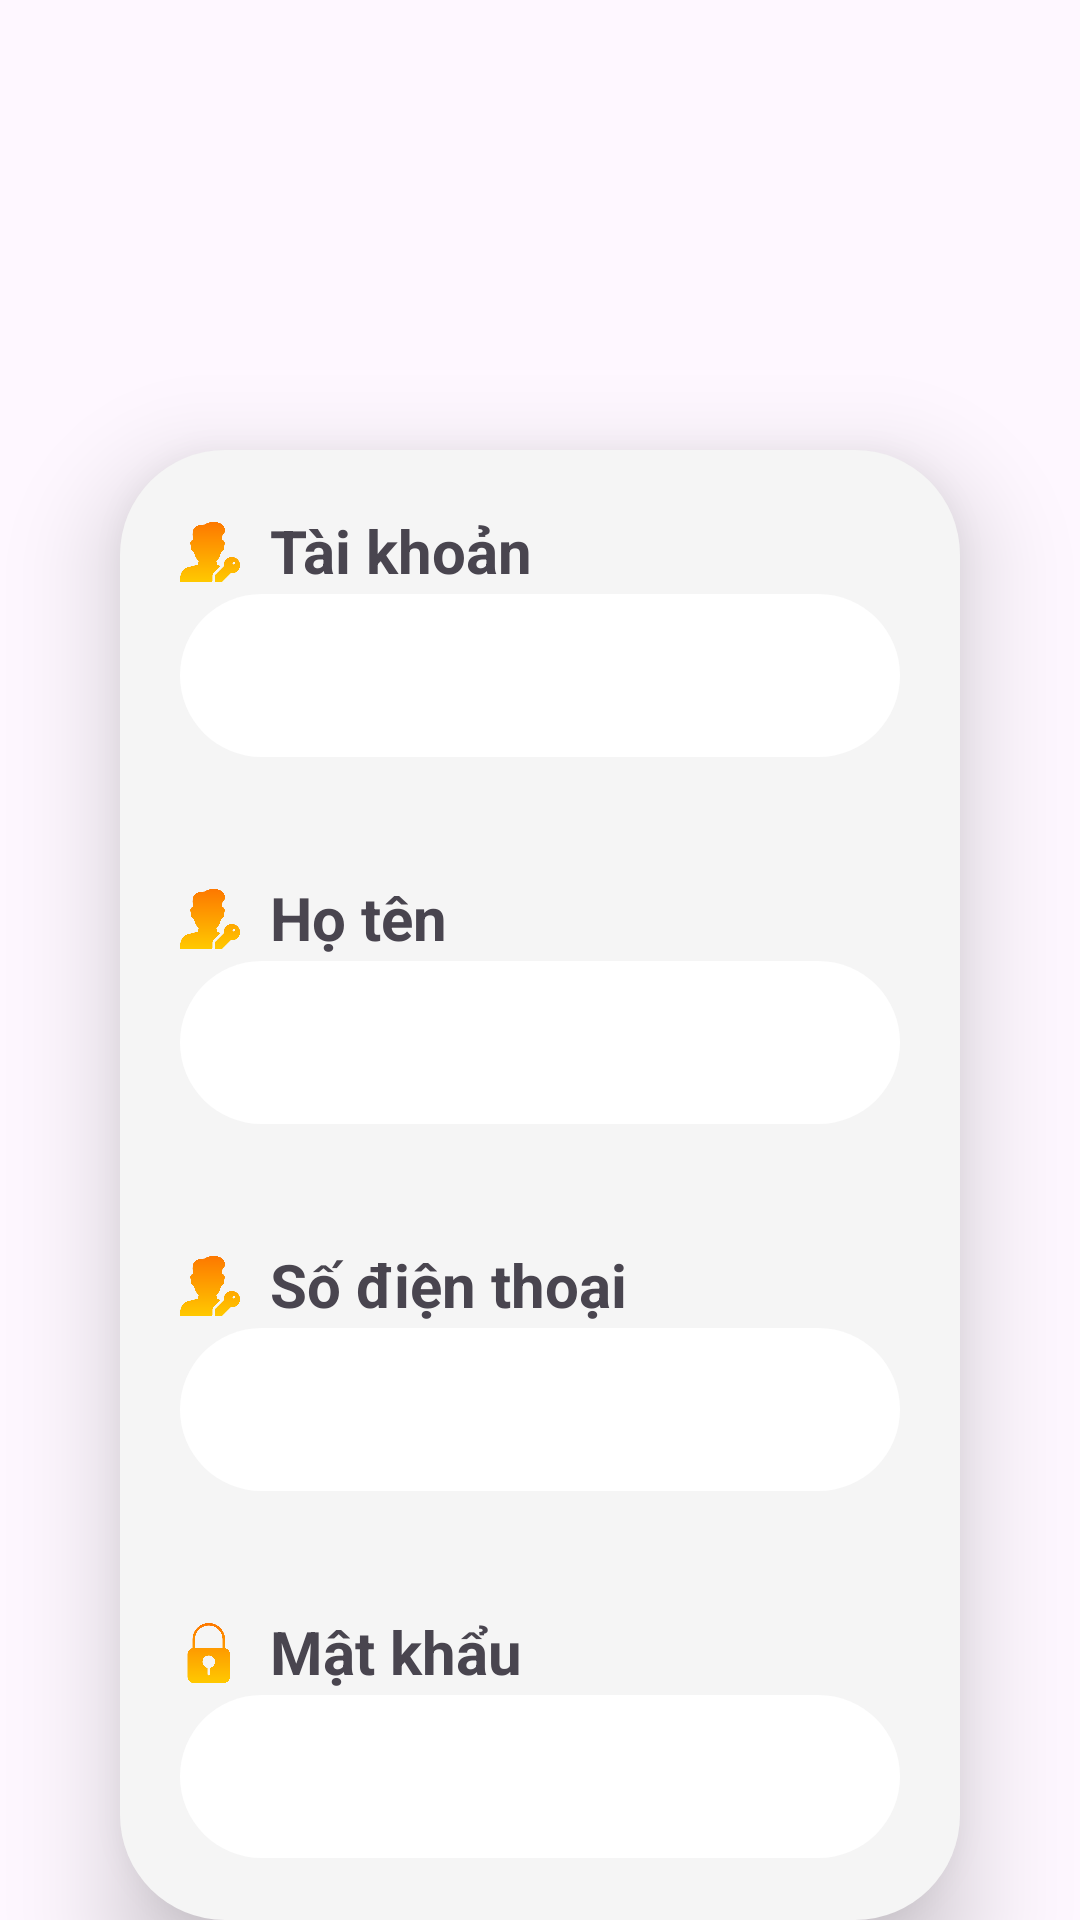

Icons on this 1080w x 1920h Android screen, each with the point to tap as point (x, y):
key: point (210, 552), point (210, 919), point (210, 1286)
lock: point (208, 1653)
